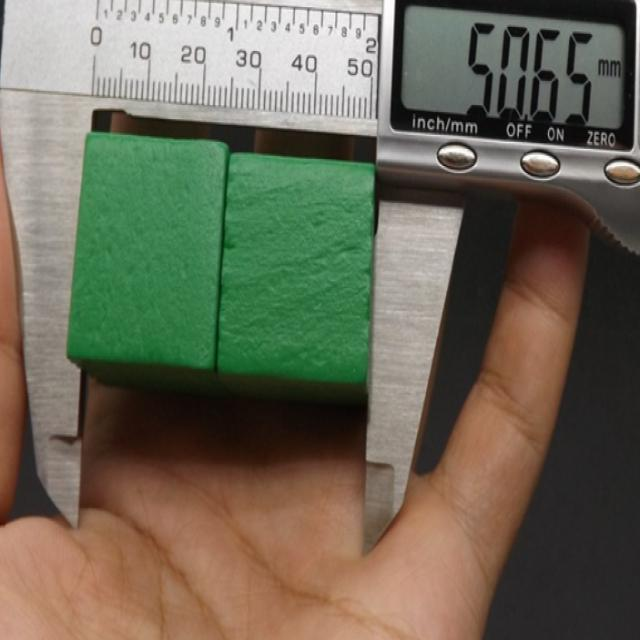green cube: (65, 130, 233, 398), (215, 151, 376, 412)
